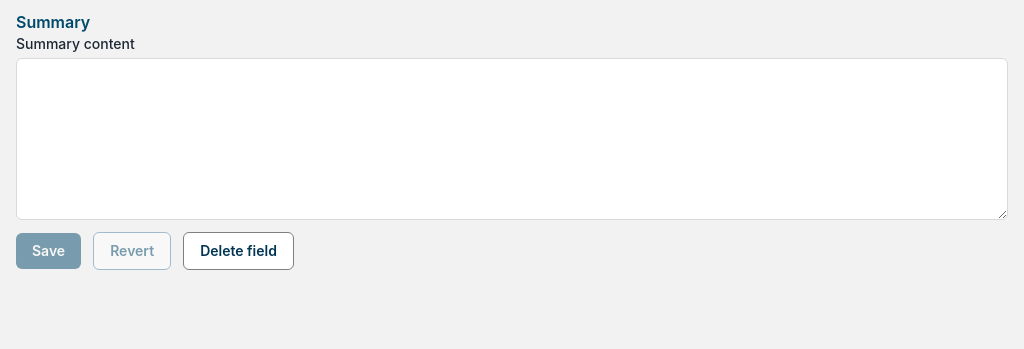
Scenario: ReportFieldCard › surfaces a save failure and keeps the draft
Type "Mine." into the text box labelled "Summary content" at coordinates (512, 139), box top-left (16, 58), bottom-right (1008, 220)
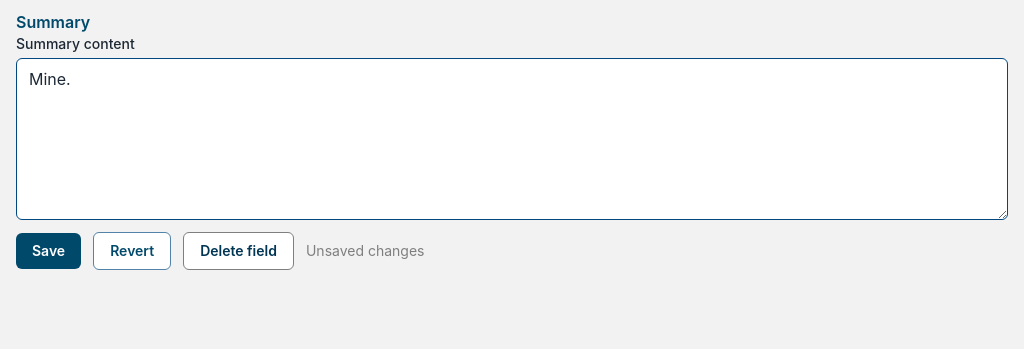
Click the button "Save" at coordinates (49, 251), box top-left (16, 233), bottom-right (81, 269)
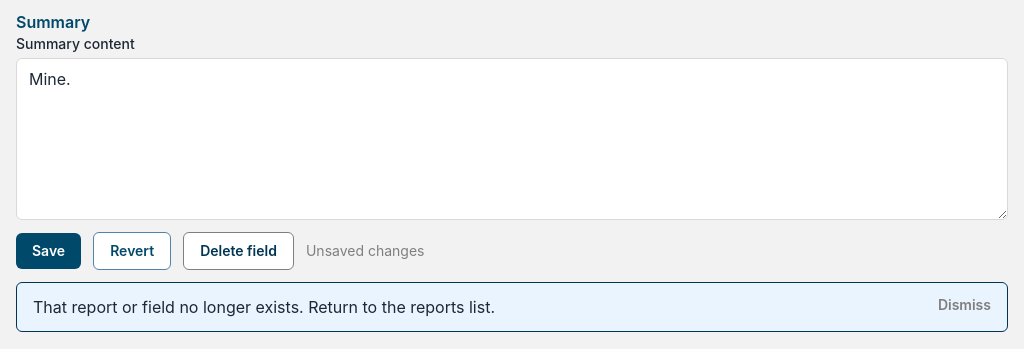
Now the message shows "That report or field no longer exists. Return to the reports list.", box top-left (33, 297), bottom-right (495, 317)
